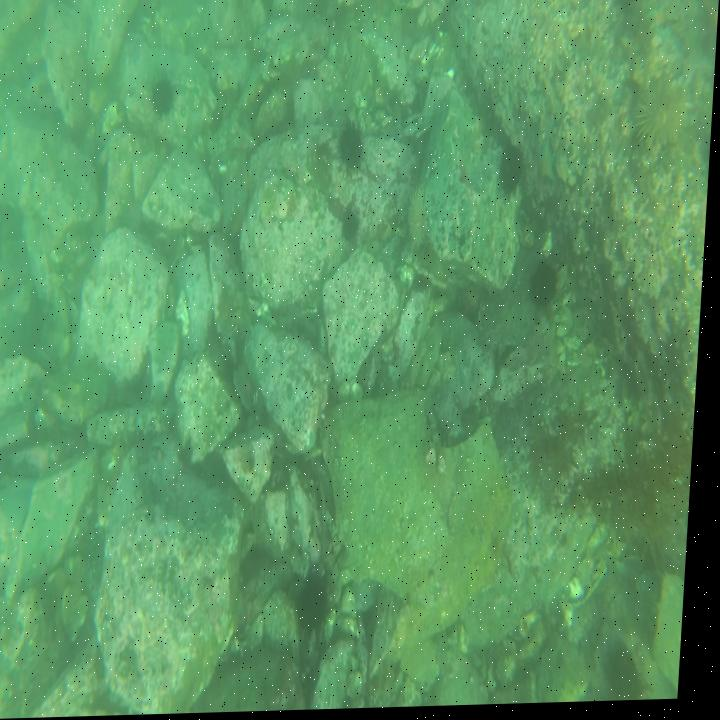echinus: (638, 79, 694, 159), (608, 640, 658, 702), (305, 570, 342, 634), (337, 117, 374, 176), (500, 144, 531, 203), (147, 73, 182, 124), (406, 188, 433, 254), (531, 258, 563, 304), (342, 208, 366, 246)
